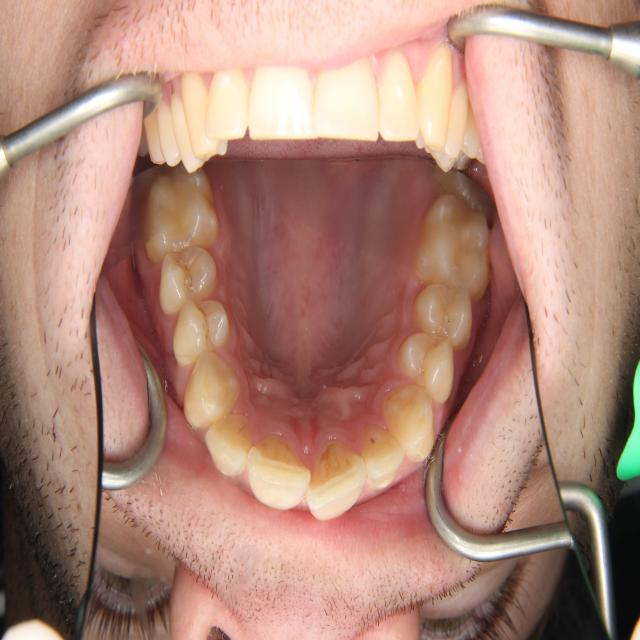tooth: (143, 163, 230, 272), (419, 182, 495, 303), (175, 332, 248, 444), (241, 430, 321, 528), (151, 234, 228, 327), (293, 429, 367, 525), (161, 283, 238, 370), (375, 373, 442, 468), (394, 317, 463, 407), (413, 269, 482, 357), (195, 401, 258, 496), (350, 415, 410, 493)
